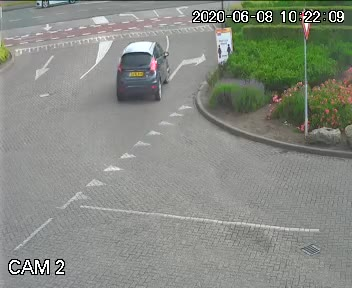car: (112, 27, 186, 137)
